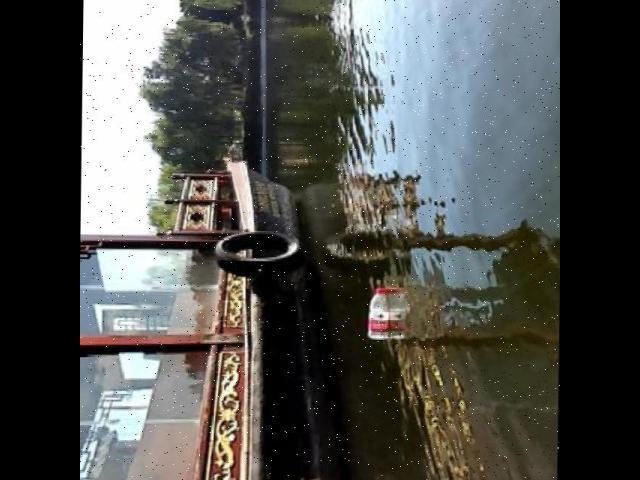Bottle: (367, 286, 395, 342)
